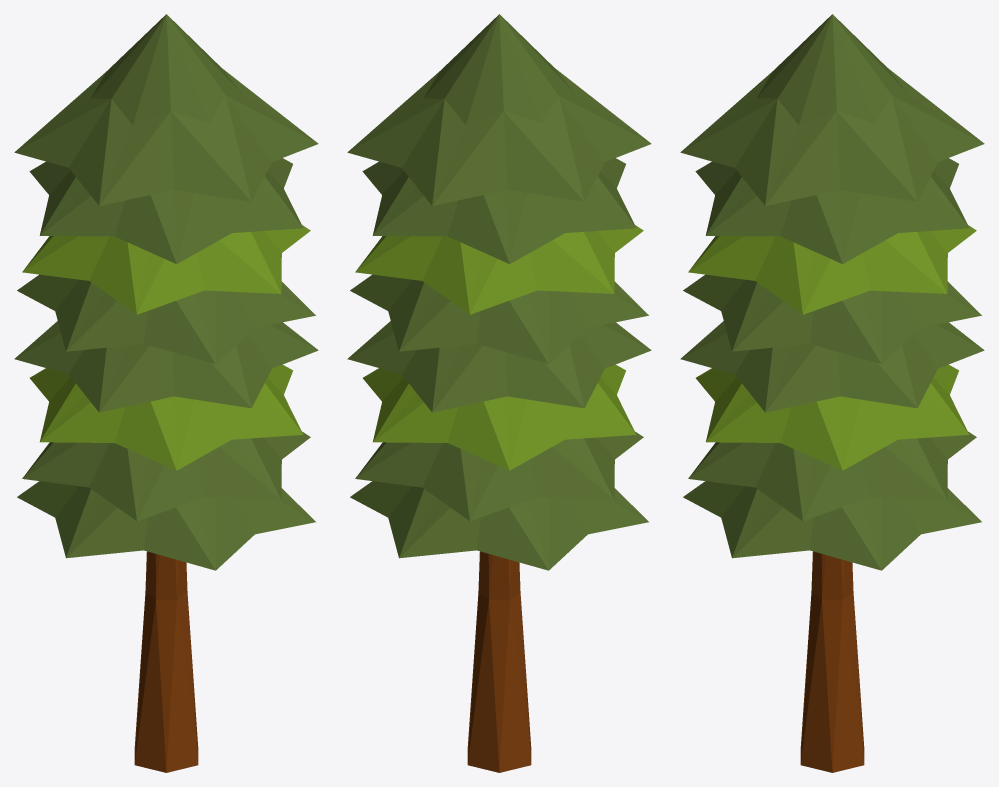
File: hedgehog_pine_medium.fbx
The picture shows the model from 3 angles, left to right: view 1: azimuth 30°, elevation 25°; view 2: azimuth 150°, elevation 25°; view 3: azimuth 270°, elevation 25°; orthographic projection.
Visible parts, largest first — view 1: G-Object.002, G-Object.001; view 2: G-Object.002, G-Object.001; view 3: G-Object.002, G-Object.001.
Boxes of the visible parts, <box> form: G-Object.002: <box>14,14,318,570</box>; G-Object.001: <box>134,551,198,772</box>; G-Object.002: <box>347,14,651,570</box>; G-Object.001: <box>467,551,531,772</box>; G-Object.002: <box>680,14,984,570</box>; G-Object.001: <box>800,551,864,772</box>.
Bounding box in the file's own units: 334 × 900 × 334.
